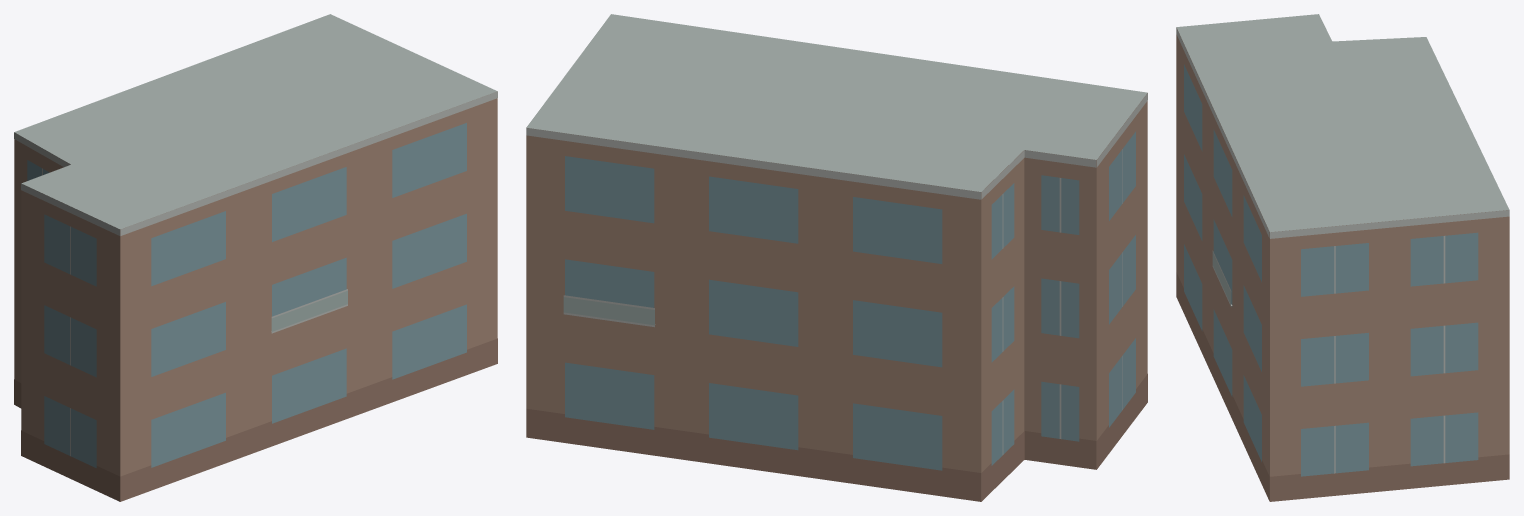
Rendered from survey-upis-32919351.glb.
3 renders of one model, left to right at view 1: azimuth 30°, elevation 25°; view 2: azimuth 150°, elevation 25°; view 3: azimuth 270°, elevation 25°, orthographic. The views are drawn at different scales.
Parts seen in each view (by area): view 1: survey-upis-32919351.tmp; view 2: survey-upis-32919351.tmp; view 3: survey-upis-32919351.tmp.
Boxes of the visible parts, x1,y1,x2,y2 form: survey-upis-32919351.tmp: [14, 14, 497, 501]; survey-upis-32919351.tmp: [526, 14, 1147, 501]; survey-upis-32919351.tmp: [1176, 14, 1509, 501].
Size of the model in its own units: 17.02 by 9.8 by 10.98.
